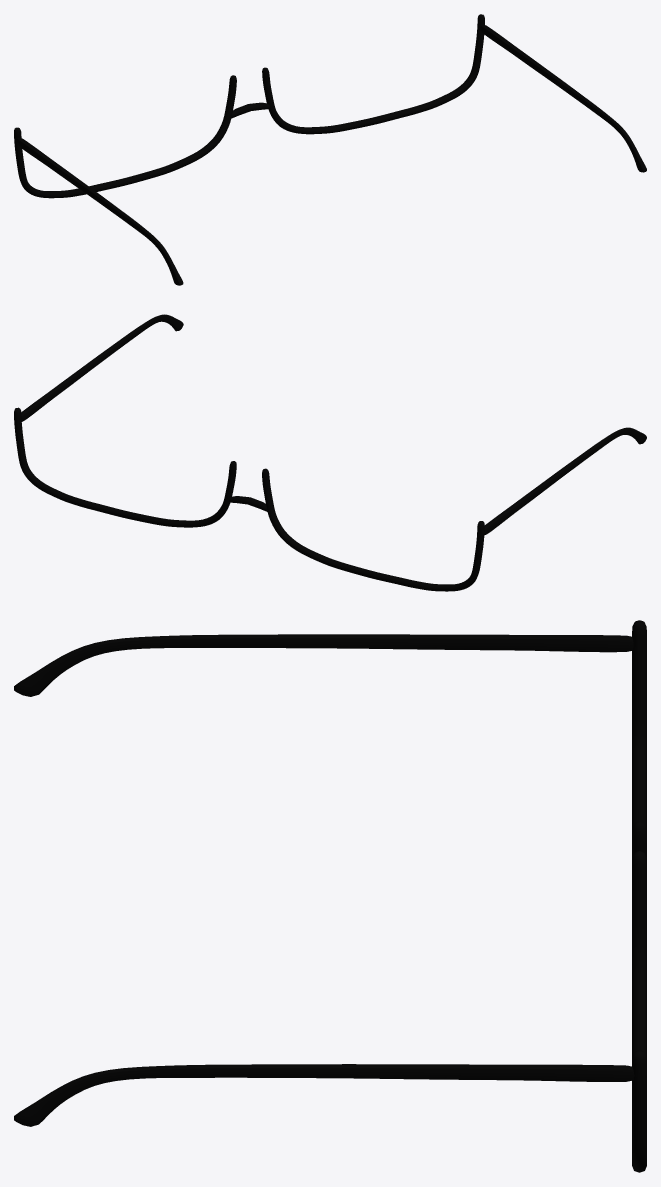
The model's file is 07-Glasses-140483245207161.glb.
The picture shows the model from 3 angles, top to bottom: view 1: azimuth 30°, elevation 25°; view 2: azimuth 150°, elevation 25°; view 3: azimuth 270°, elevation 25°; orthographic projection. The views are drawn at different scales.
Visible parts, largest first — view 1: 07-Glasses-140483245207161; view 2: 07-Glasses-140483245207161; view 3: 07-Glasses-140483245207161.
Boxes of the visible parts, box(x1,y1,x2,y2) form: 07-Glasses-140483245207161: box(14, 14, 646, 285); 07-Glasses-140483245207161: box(14, 314, 646, 591); 07-Glasses-140483245207161: box(14, 620, 646, 1172).
Size of the model in its own units: 1.2 by 0.2044 by 0.7375.
1 material, 1 textured.
